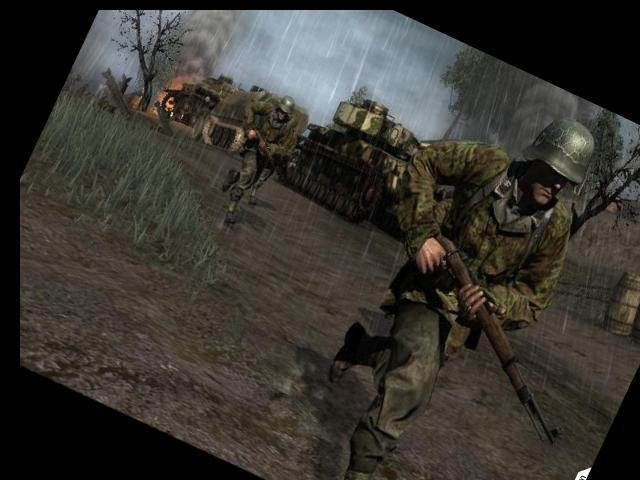larga: (435, 234, 564, 445), (253, 129, 277, 169)
